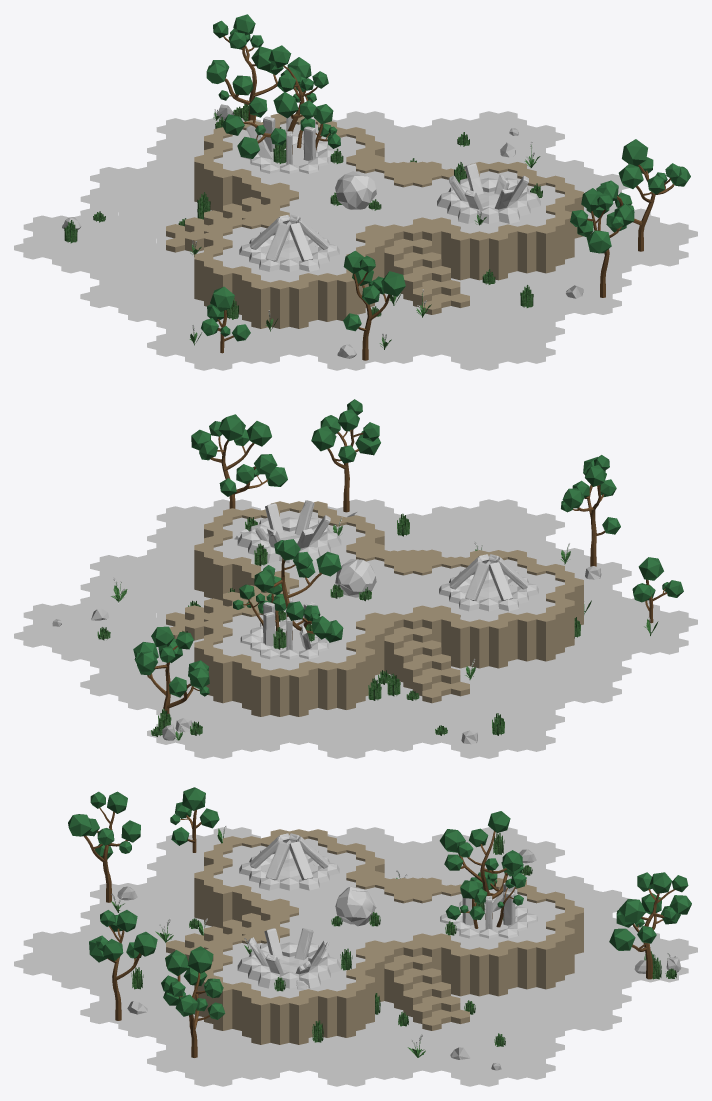
File: Temple.fbx
3 renders of one model, top to bottom at view 1: azimuth 30°, elevation 25°; view 2: azimuth 150°, elevation 25°; view 3: azimuth 270°, elevation 25°, orthographic.
Parts seen in each view (by area): view 1: polySurface83 (×3), polySurface86 (×3), polySurface84 (×3), polySurface85 (×3), pSolid3 (×5), polySurface23, pSolid10 (×2), pasted__pCylinder209 (×2), pCylinder308 (×2), polySurface51, pasted__pCylinder179 (×3), polySurface49 (+22 smaller); view 2: polySurface83 (×3), polySurface84 (×3), polySurface85 (×3), polySurface86 (×3), pSolid3 (×4), polySurface23, pSolid10 (×2), pCylinder308 (×2), pasted__pCylinder209 (×2), polySurface51, polySurface49, pasted__pCylinder210 (×2) (+22 smaller); view 3: polySurface83 (×3), polySurface84 (×3), polySurface86 (×3), polySurface85 (×3), pSolid3 (×5), polySurface23, pSolid10 (×2), pCylinder308 (×2), pasted__pCylinder210 (×3), pCylinder309 (×3), pCylinder285 (×3), polySurface51 (+26 smaller).
Part boxes in pixels (x1,y1,x2,y2): polySurface83 (×3): (14,111,564,370); polySurface86 (×3): (80,111,631,321); polySurface84 (×3): (80,160,629,370); polySurface85 (×3): (147,112,697,370); pSolid3 (×5): (201,14,690,341); polySurface23: (280,171,431,235); pSolid10 (×2): (343,188,634,331); pasted__pCylinder209 (×2): (194,210,574,306); pCylinder308 (×2): (194,148,365,321); polySurface51: (213,123,365,186); pasted__pCylinder179 (×3): (251,169,441,279); polySurface49: (213,220,365,282); polySurface83 (×3): (14,499,564,758); polySurface84 (×3): (80,548,631,758); polySurface85 (×3): (147,499,697,758); polySurface86 (×3): (80,499,631,709); pSolid3 (×4): (133,414,683,697); polySurface23: (288,559,431,623); pSolid10 (×2): (311,399,620,534); pCylinder308 (×2): (194,536,365,709); pasted__pCylinder209 (×2): (194,598,574,703); polySurface51: (213,609,365,670); polySurface49: (413,559,564,621); pasted__pCylinder210 (×2): (232,578,583,716); polySurface83 (×3): (14,827,564,1086); polySurface84 (×3): (80,876,630,1086); polySurface86 (×3): (80,827,631,1037); polySurface85 (×3): (147,827,697,1086); pSolid3 (×5): (161,787,691,1019); polySurface23: (280,887,431,951); pSolid10 (×2): (68,791,157,962); pCylinder308 (×2): (194,864,365,1037); pasted__pCylinder210 (×3): (223,836,583,1044); pCylinder309 (×3): (204,843,574,1044); pCylinder285 (×3): (213,850,488,996); polySurface51: (413,889,564,949).
Size of the model in its own units: 56 by 17.79 by 62.35.
